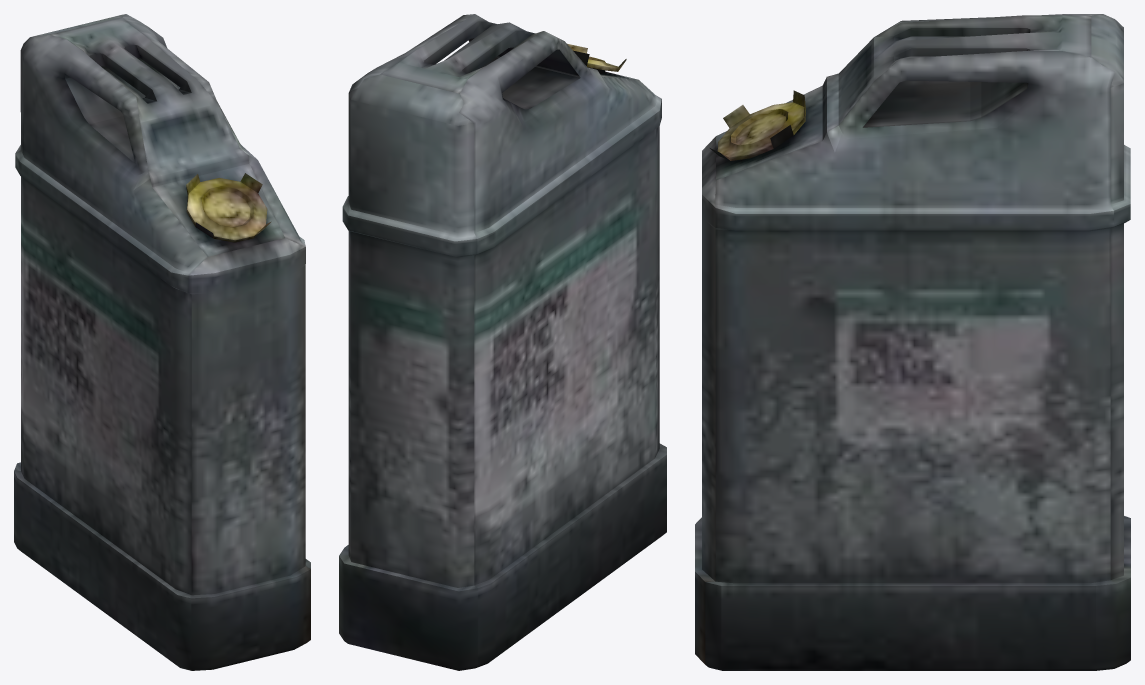
The model's file is metalgascan.glb.
3 renders of one model, left to right at view 1: azimuth 30°, elevation 25°; view 2: azimuth 150°, elevation 25°; view 3: azimuth 270°, elevation 25°, orthographic. The views are drawn at different scales.
Parts seen in each view (by area): view 1: 0_metalgascan; view 2: 0_metalgascan; view 3: 0_metalgascan.
Boxes of the visible parts, left/top/right/bottom form: 0_metalgascan: left=14, top=14, right=310, bottom=670; 0_metalgascan: left=339, top=14, right=666, bottom=670; 0_metalgascan: left=695, top=14, right=1130, bottom=670.
Size of the model in its own units: 0.2054 by 0.756 by 0.4964.
Materials: 1 (1 with a texture image).
